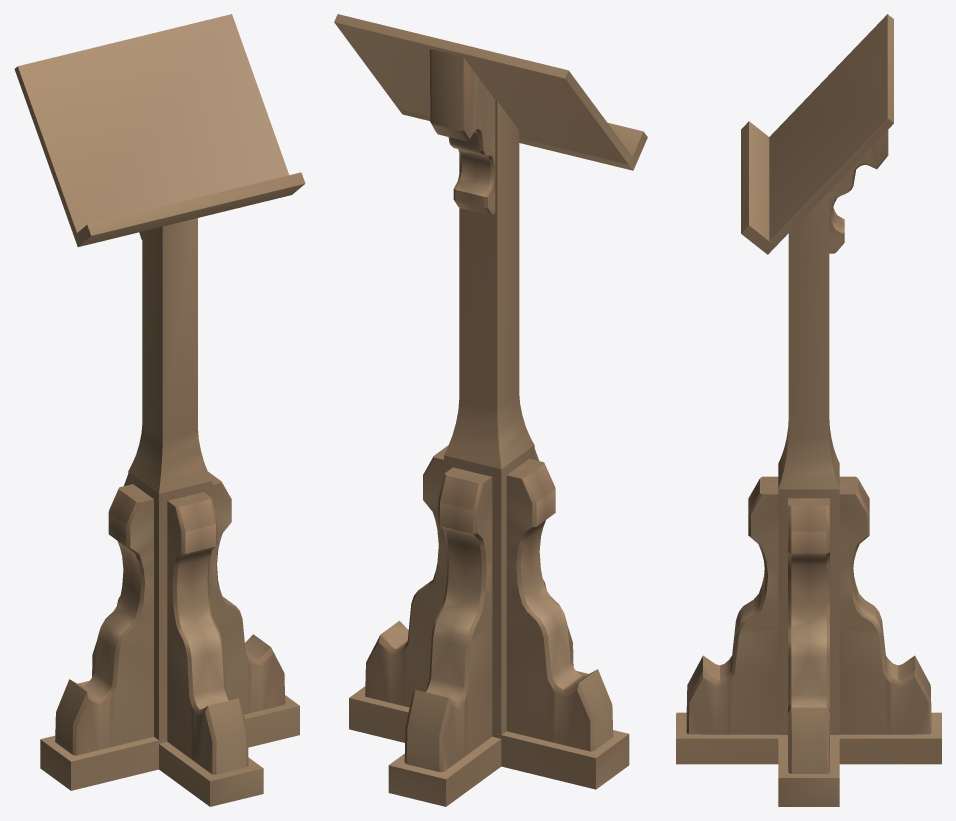
Rendered from BookStand.glb.
The picture shows the model from 3 angles, left to right: view 1: azimuth 30°, elevation 25°; view 2: azimuth 150°, elevation 25°; view 3: azimuth 270°, elevation 25°; orthographic projection. The views are drawn at different scales.
Parts seen in each view (by area): view 1: BookStand; view 2: BookStand; view 3: BookStand.
Boxes of the visible parts, x1=… form: BookStand: x1=14, y1=14, x2=305, y2=806; BookStand: x1=334, y1=14, x2=647, y2=806; BookStand: x1=676, y1=14, x2=941, y2=806.
Size of the model in its own units: 0.5071 by 1.45 by 0.5112.
